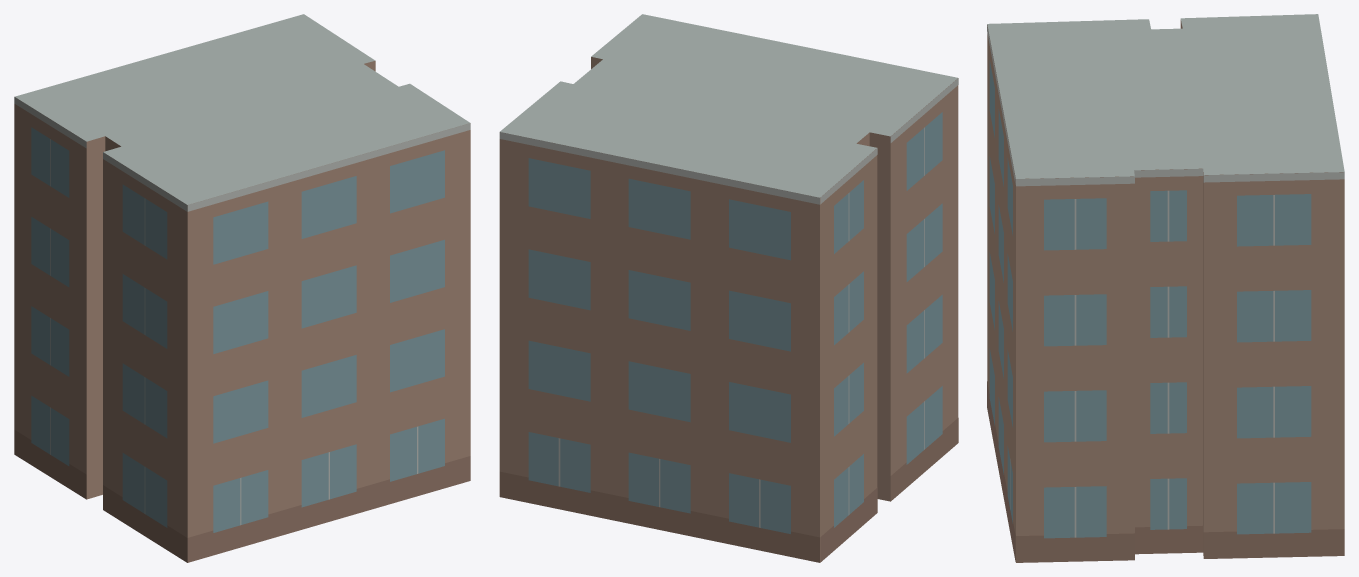
File: survey-upis-32907734.glb
The picture shows the model from 3 angles, left to right: view 1: azimuth 30°, elevation 25°; view 2: azimuth 150°, elevation 25°; view 3: azimuth 270°, elevation 25°; orthographic projection. The views are drawn at different scales.
Parts seen in each view (by area): view 1: survey-upis-32907734.tmp; view 2: survey-upis-32907734.tmp; view 3: survey-upis-32907734.tmp.
Boxes of the visible parts, x1,y1,x2,y2 form: survey-upis-32907734.tmp: (14,14,470,562); survey-upis-32907734.tmp: (499,14,958,562); survey-upis-32907734.tmp: (987,14,1344,562).
Bounding box in the file's own units: 11.72 × 12.7 × 10.73.
